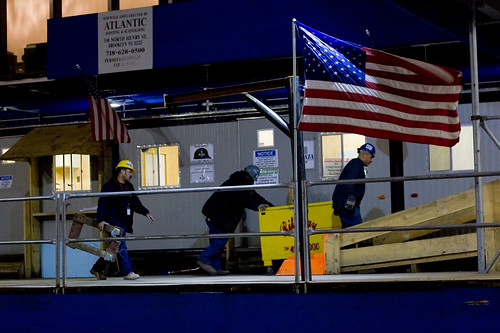person hardhat: (201, 162, 277, 279), (96, 159, 147, 288), (331, 140, 377, 230)
